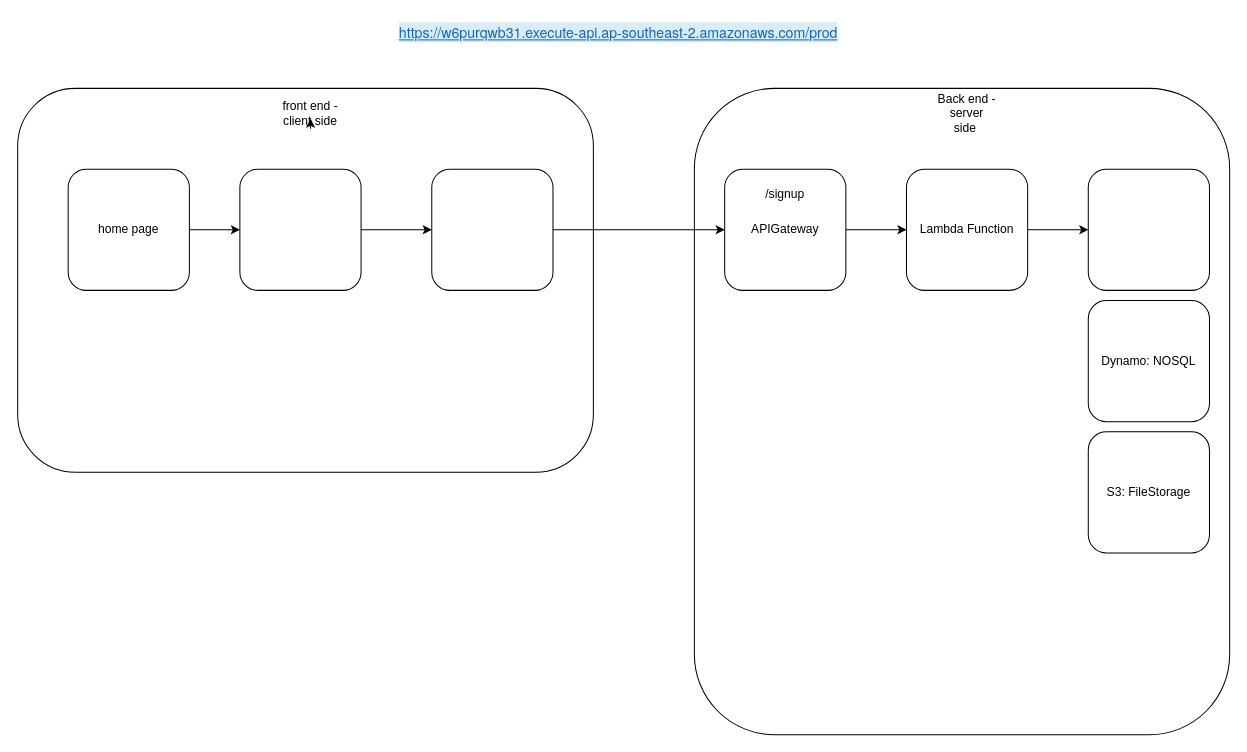
The diagram is 1247 pixels wide and 752 high, and some of its shapes have lost their labels. The centre of each missing label's shape, as x and y in pixels:
"Class API methods: signup signin getdashboarddata" belongs at (492,229).
"Cognito: identiifyProvider" belongs at (1148,229).
"home page callbacks" belongs at (300,229).
